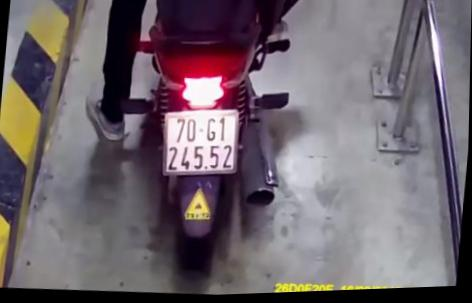LP: (158, 105, 244, 182)
